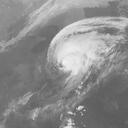cyclone: (47, 16, 114, 74)
